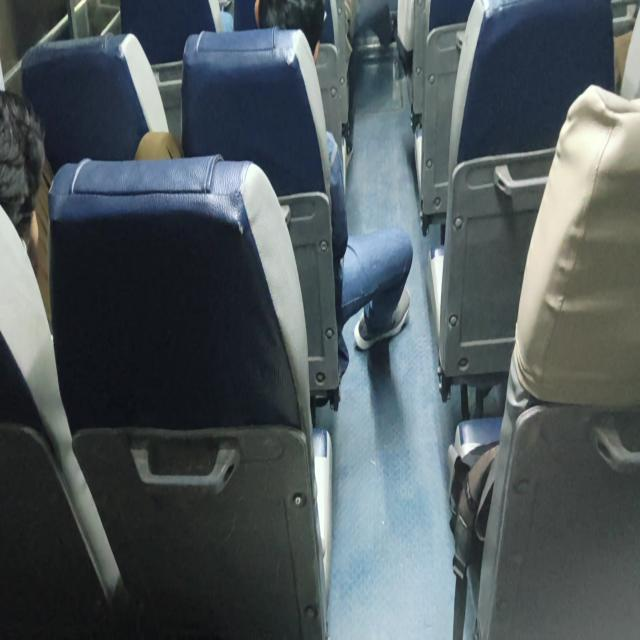person: (254, 1, 414, 382), (0, 87, 53, 333)
